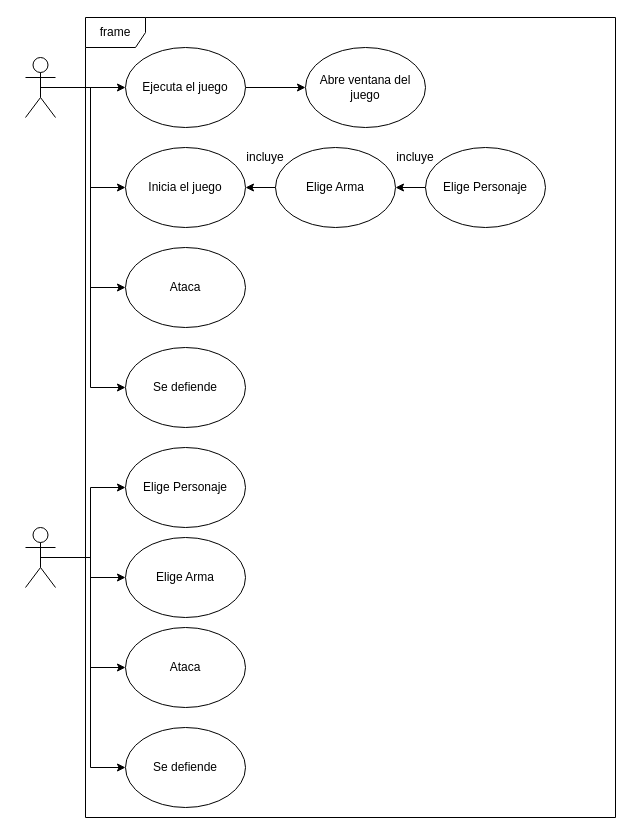
The diagram is 633 pixels wide and 835 high, and some of its shapes have lost their labels. The box of each missing label's shape, as (x1, y1, x2, y2) in pixels:
Jugador: (24, 56, 56, 118)
Máquina: (24, 526, 56, 588)
